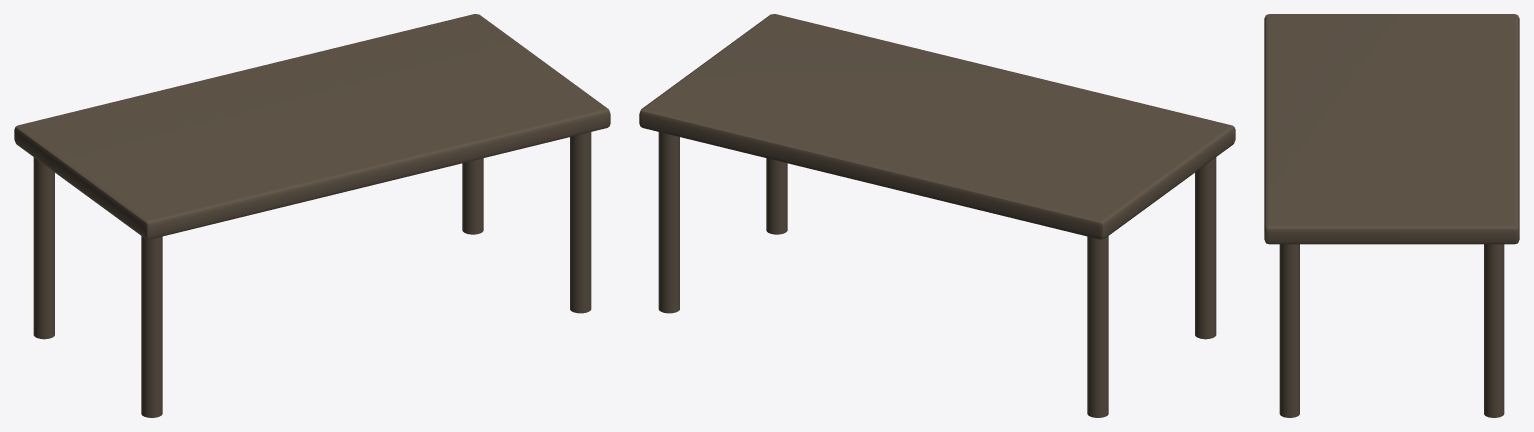
File: WoodenTable 1.fbx
3 renders of one model, left to right at view 1: azimuth 30°, elevation 25°; view 2: azimuth 150°, elevation 25°; view 3: azimuth 270°, elevation 25°, orthographic. The views are drawn at different scales.
Parts seen in each view (by area): view 1: Table; view 2: Table; view 3: Table.
Part boxes in pixels (x1,y1,x2,y2): Table: (14, 14, 610, 417); Table: (639, 14, 1235, 417); Table: (1264, 14, 1519, 417).
Size of the model in its own units: 162 by 68.25 by 81.25.
